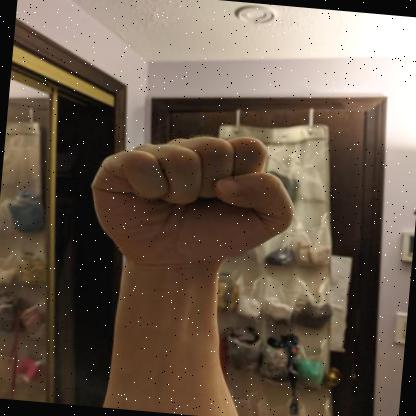S: (91, 136, 294, 271)
